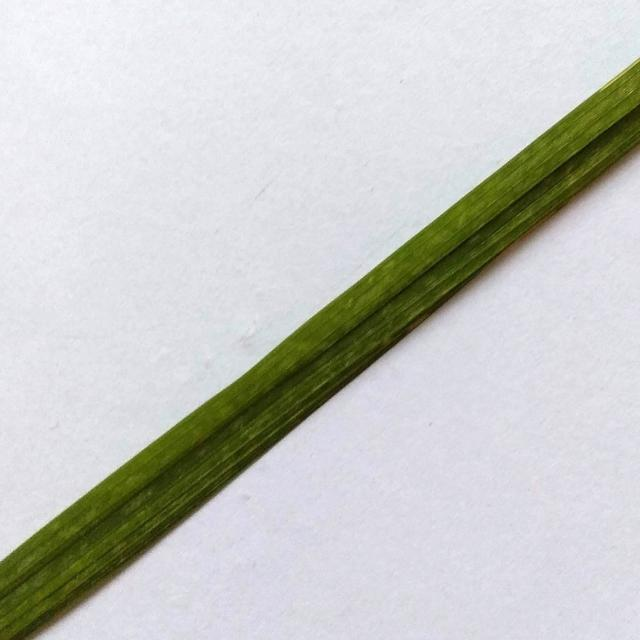Rice_Healthy: (0, 58, 640, 640)
